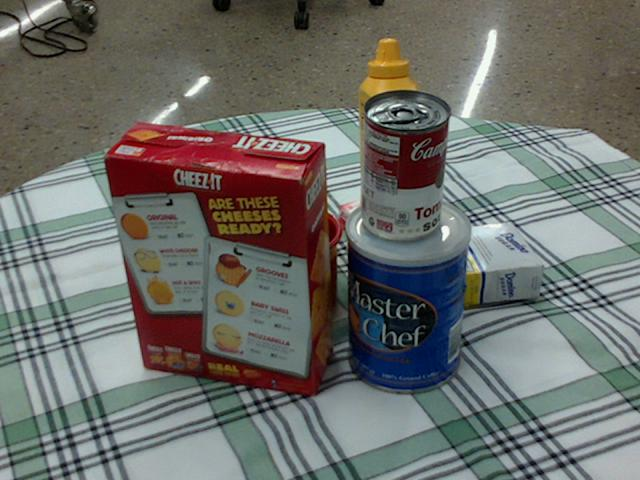cracker_box: (98, 124, 333, 393)
gelatin_box: (338, 186, 439, 255)
master_chef_can: (346, 193, 471, 393)
mug: (242, 207, 341, 322)
mustard_bottle: (358, 39, 421, 240)
potted_meat_can: (159, 223, 250, 315)
sugar_box: (348, 219, 544, 319)
tomato_soup_can: (359, 89, 448, 240)
tuna_fish_can: (162, 191, 252, 265)
